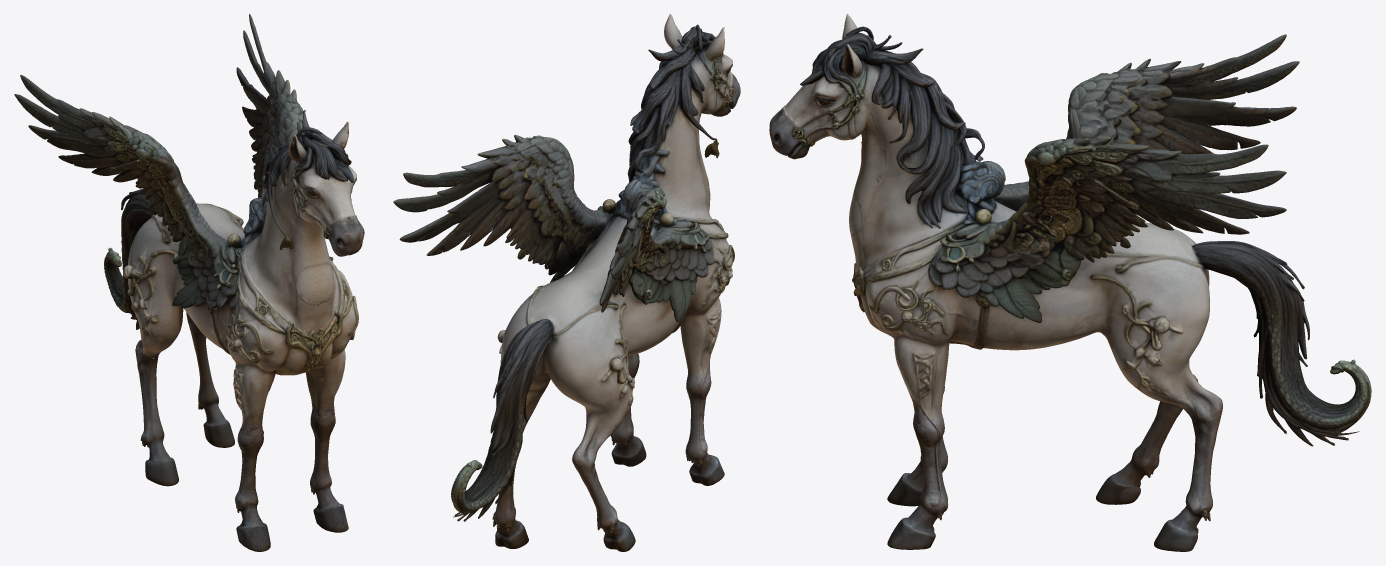
The model's file is shuhu.glb.
3 renders of one model, left to right at view 1: azimuth 30°, elevation 25°; view 2: azimuth 150°, elevation 25°; view 3: azimuth 270°, elevation 25°, orthographic. The views are drawn at different scales.
Visible parts, largest first — view 1: tripo_node_8cb14c7b-7028-44d9-896c-cfac17da891c; view 2: tripo_node_8cb14c7b-7028-44d9-896c-cfac17da891c; view 3: tripo_node_8cb14c7b-7028-44d9-896c-cfac17da891c.
Boxes of the visible parts, box(x1,y1,x2,y2) form: tripo_node_8cb14c7b-7028-44d9-896c-cfac17da891c: box(14, 14, 364, 551); tripo_node_8cb14c7b-7028-44d9-896c-cfac17da891c: box(393, 14, 740, 551); tripo_node_8cb14c7b-7028-44d9-896c-cfac17da891c: box(769, 14, 1371, 551).
Size of the model in its own units: 0.4869 by 0.8846 by 0.9789.
1 material, 1 textured.
